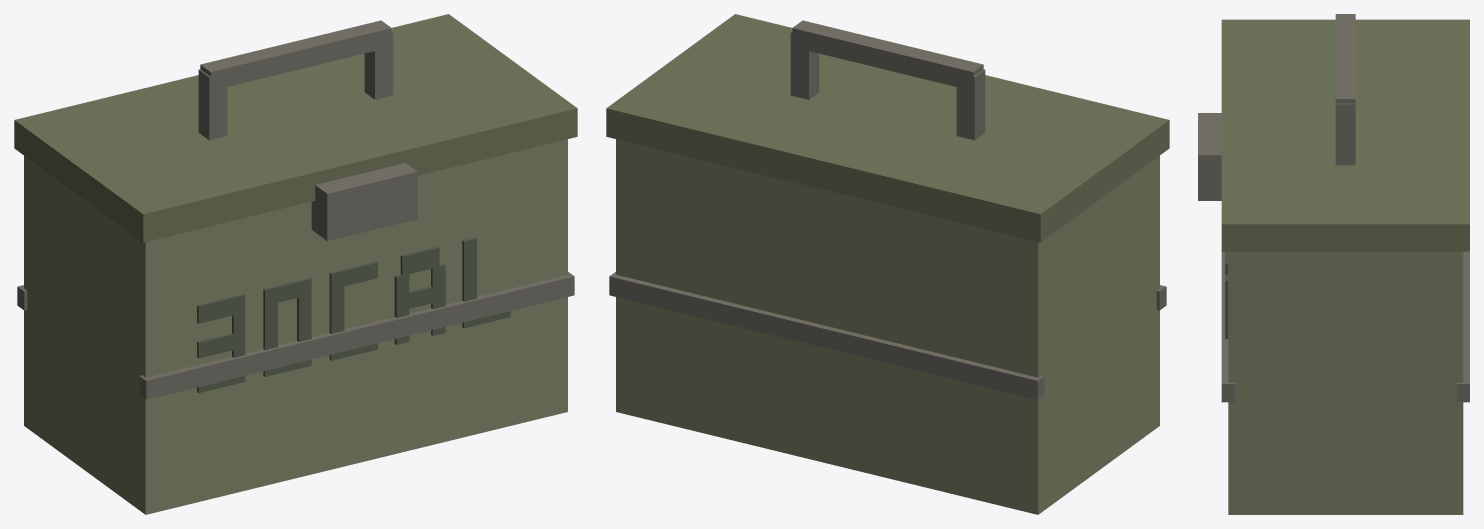
Rendered from ammo_can.glb.
The picture shows the model from 3 angles, left to right: view 1: azimuth 30°, elevation 25°; view 2: azimuth 150°, elevation 25°; view 3: azimuth 270°, elevation 25°; orthographic projection. The views are drawn at different scales.
Parts seen in each view (by area): view 1: CanBody, CanLid, CanBead_s, CanLatch, CanHandle, CanHandlePost_l, CanHandlePost_r, CanStamp_16, CanStamp_0, CanStamp_6, CanStamp_10, CanStamp_1 (+6 smaller); view 2: CanBody, CanLid, CanBead_n, CanHandle, CanHandlePost_l, CanHandlePost_r; view 3: CanBody, CanLid, CanLatch, CanHandle, CanHandlePost_r, CanBead_n, CanBead_s.
Boxes of the visible parts, x1,y1,x2,y2 form: CanBody: (24,139,567,514); CanLid: (14,14,577,242); CanBead_s: (139,272,574,399); CanLatch: (311,163,417,241); CanHandle: (200,20,391,90); CanHandlePost_l: (198,69,227,140); CanHandlePost_r: (364,31,393,99); CanStamp_16: (462,237,476,328); CanStamp_0: (197,294,245,323); CanStamp_6: (263,277,311,305); CanStamp_10: (329,261,377,289); CanStamp_1: (197,331,245,358); CanBody: (616,139,1159,514); CanLid: (606,14,1169,242); CanBead_n: (609,272,1044,399); CanHandle: (792,20,983,90); CanHandlePost_l: (956,69,985,140); CanHandlePost_r: (790,31,819,99); CanBody: (1228,251,1463,514); CanLid: (1221,19,1469,251); CanLatch: (1198,113,1221,200); CanHandle: (1335,14,1355,103); CanHandlePost_r: (1335,103,1355,165); CanBead_n: (1456,251,1469,402); CanBead_s: (1221,251,1234,402).
Size of the model in its own units: 0.288 by 0.236 by 0.162.
